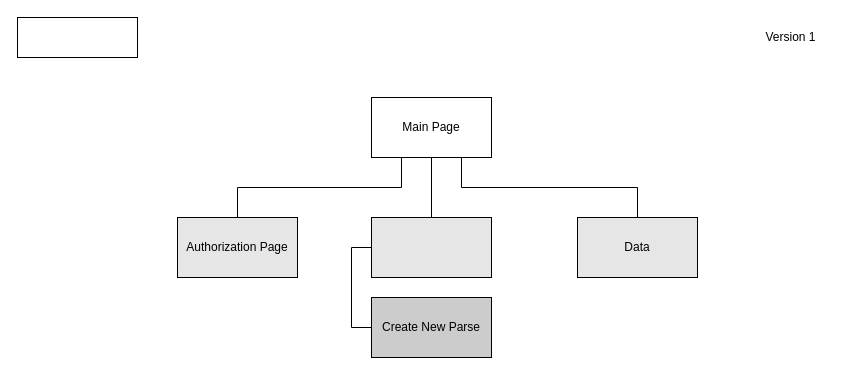
Some shapes in this 862 by 375 pixel diagram are drawn without their labels. The centre of each missing label's shape, as x and y in pixels:
"Parse" goes at (431,247).
"Sitemap" goes at (77,37).
